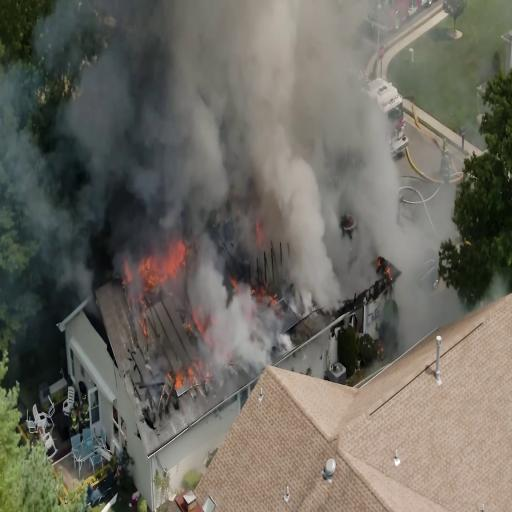smoke: (86, 0, 359, 186), (283, 146, 329, 302)
